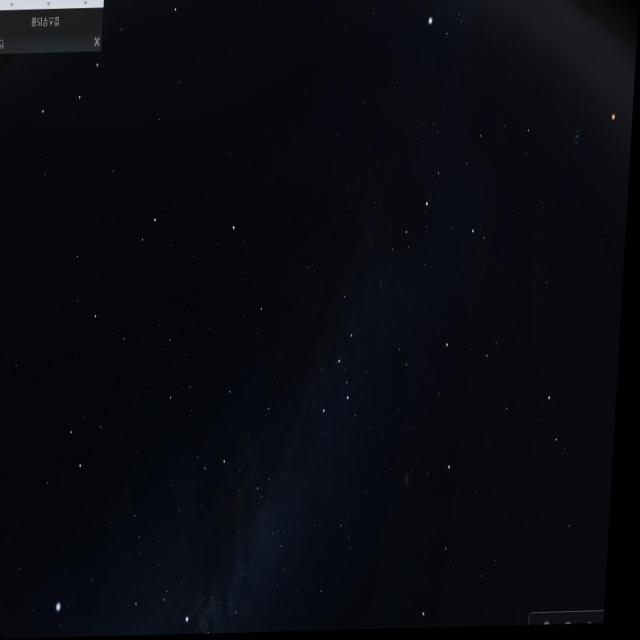cassiopeia: (325, 283, 371, 429)
pleiades: (570, 112, 590, 167)
